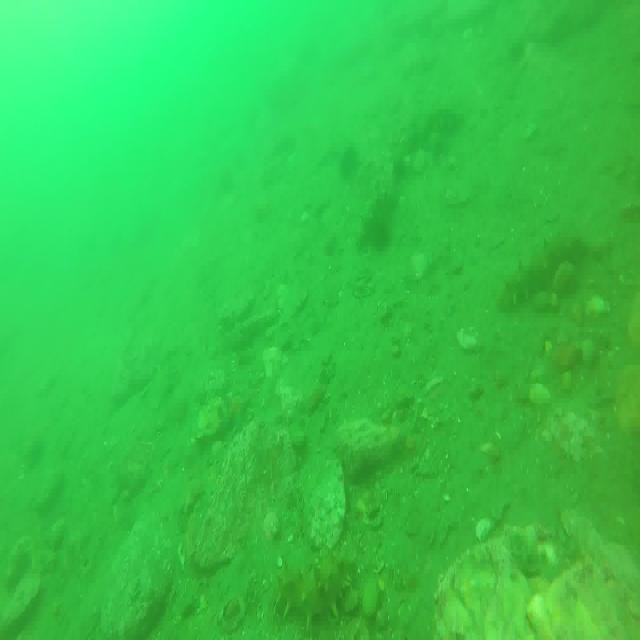holothurian: (496, 229, 588, 319), (270, 554, 360, 626)
